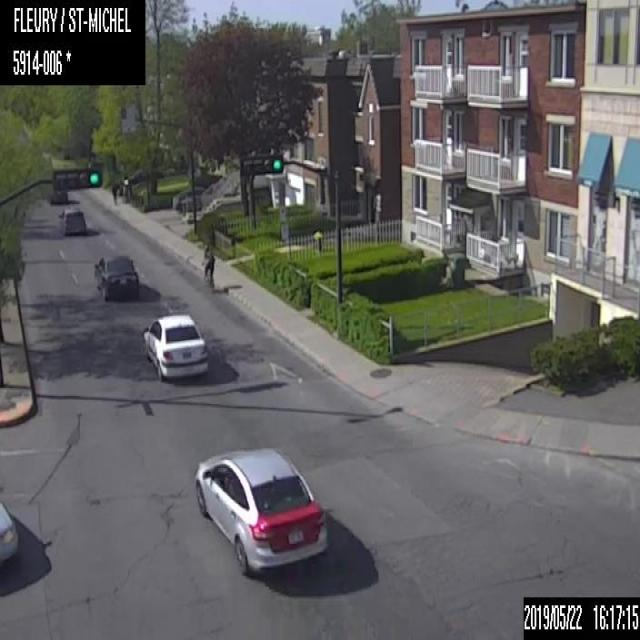cyclist: (202, 244, 215, 291)
pedestrian: (111, 180, 116, 207)
vehicle: (193, 444, 328, 579), (141, 312, 211, 381), (92, 254, 140, 302), (0, 490, 20, 574), (56, 205, 88, 238)
